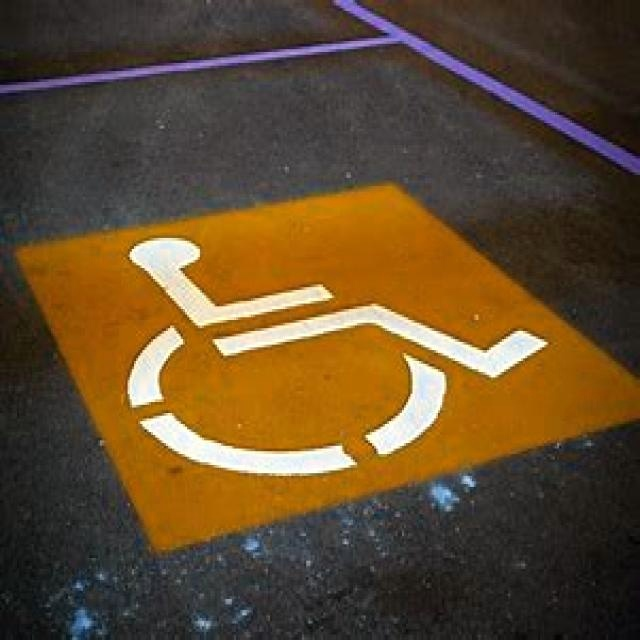ISA: (119, 238, 549, 478)
